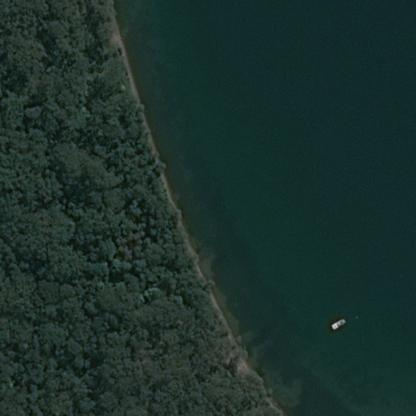ship: (330, 318, 345, 330)
